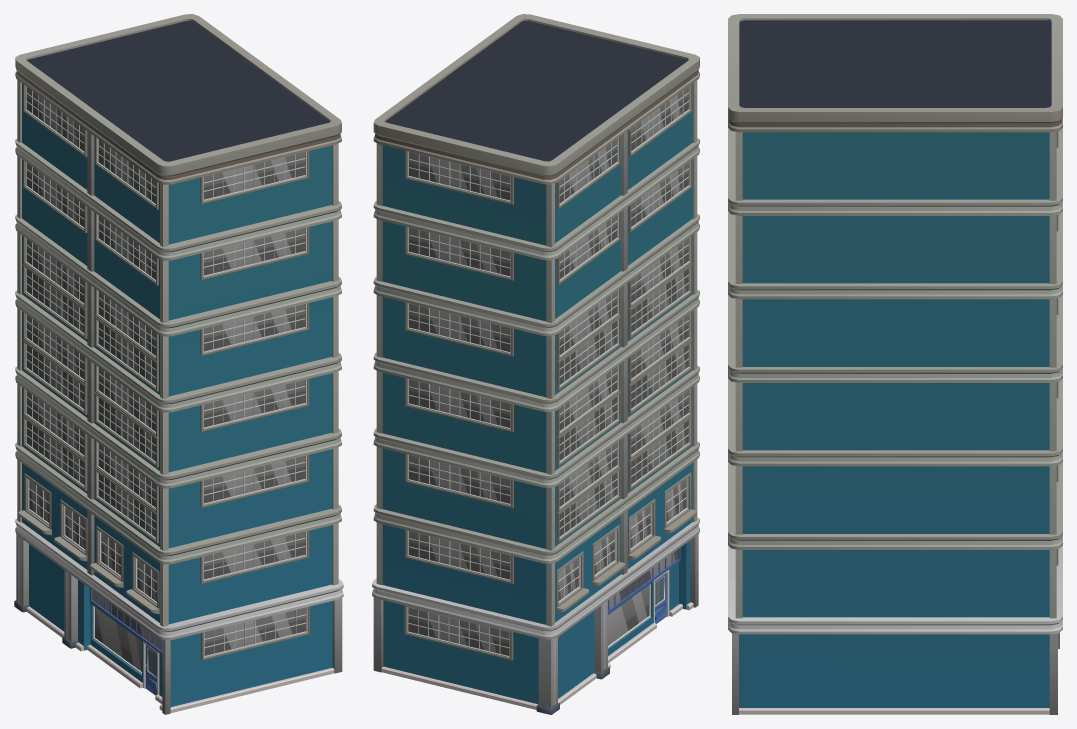
The model's file is Building_11_5_A.fbx.
3 views of the same model, side by side, from view 1: azimuth 30°, elevation 25°; view 2: azimuth 150°, elevation 25°; view 3: azimuth 270°, elevation 25° (orthographic). The views are drawn at different scales.
Visible parts, largest first — view 1: Building_11_5_A; view 2: Building_11_5_A; view 3: Building_11_5_A.
Boxes of the visible parts, x1,y1,x2,y2 form: Building_11_5_A: [14, 14, 343, 714]; Building_11_5_A: [372, 14, 699, 714]; Building_11_5_A: [728, 14, 1062, 714].
Bounding box in the file's own units: 827 × 2314 × 1163.
